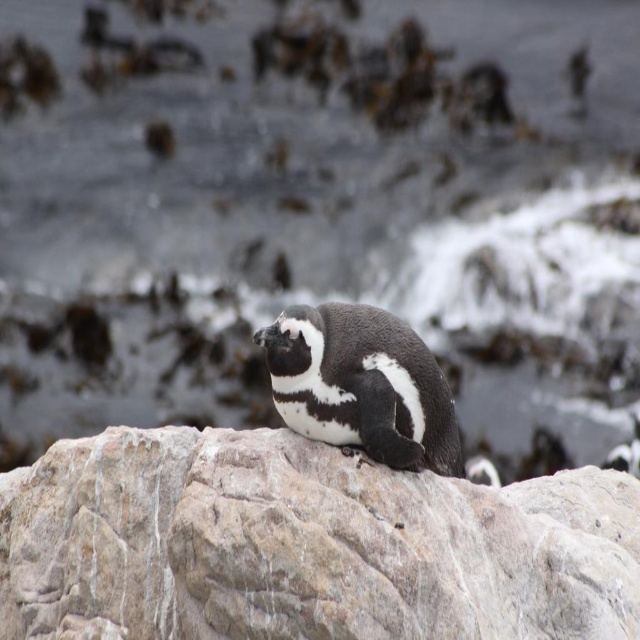Penguin: (252, 301, 463, 479)
